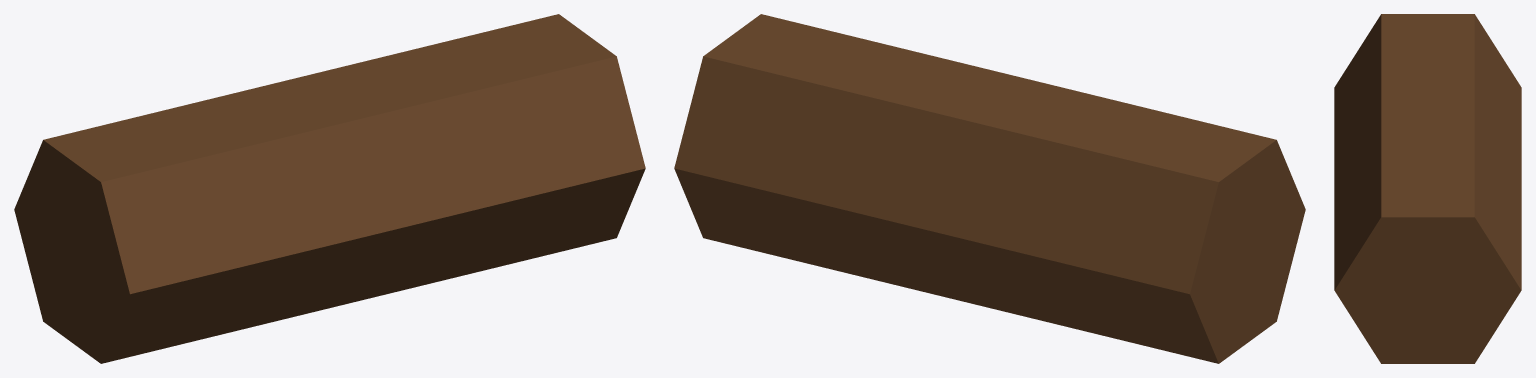
The model's file is good_8.glb.
3 views of the same model, side by side, from view 1: azimuth 30°, elevation 25°; view 2: azimuth 150°, elevation 25°; view 3: azimuth 270°, elevation 25° (orthographic). The views are drawn at different scales.
Visible parts, largest first — view 1: good_8; view 2: good_8; view 3: good_8.
Boxes of the visible parts, x1,y1,x2,y2 form: good_8: [14, 14, 645, 363]; good_8: [674, 14, 1305, 363]; good_8: [1334, 14, 1521, 363].
Bounding box in the file's own units: 0.18 × 0.0606 × 0.07.
